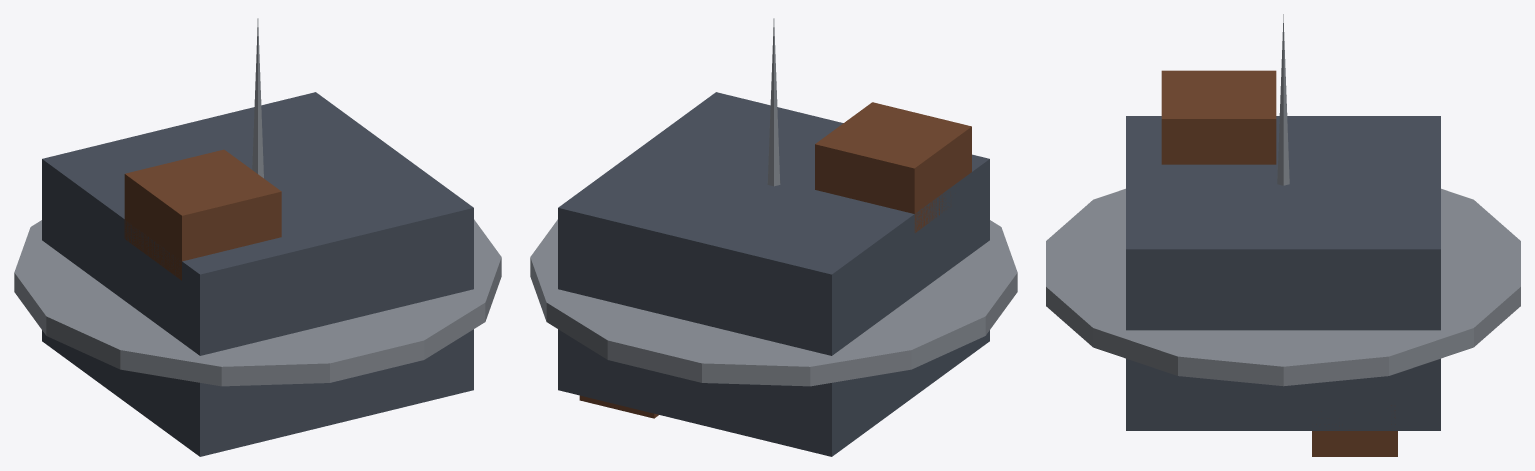
The model's file is void-station__derelict_station.obj.
The picture shows the model from 3 angles, left to right: view 1: azimuth 30°, elevation 25°; view 2: azimuth 150°, elevation 25°; view 3: azimuth 270°, elevation 25°; orthographic projection.
Visible parts, largest first — view 1: core, ring, greeble, mast; view 2: core, ring, greeble, mast; view 3: core, ring, greeble, mast.
Part boxes in pixels (bbox=[...]): core: bbox=[42, 92, 473, 456]; ring: bbox=[14, 219, 501, 386]; greeble: bbox=[124, 149, 281, 280]; mast: bbox=[252, 18, 263, 178]; core: bbox=[558, 92, 989, 456]; ring: bbox=[530, 219, 1017, 386]; greeble: bbox=[579, 102, 971, 418]; mast: bbox=[767, 18, 780, 186]; core: bbox=[1126, 116, 1440, 430]; ring: bbox=[1046, 188, 1520, 386]; greeble: bbox=[1161, 70, 1397, 456]; mast: bbox=[1277, 14, 1289, 185].
Bounding box in the file's own units: 6.8 × 5.8 × 6.63.
